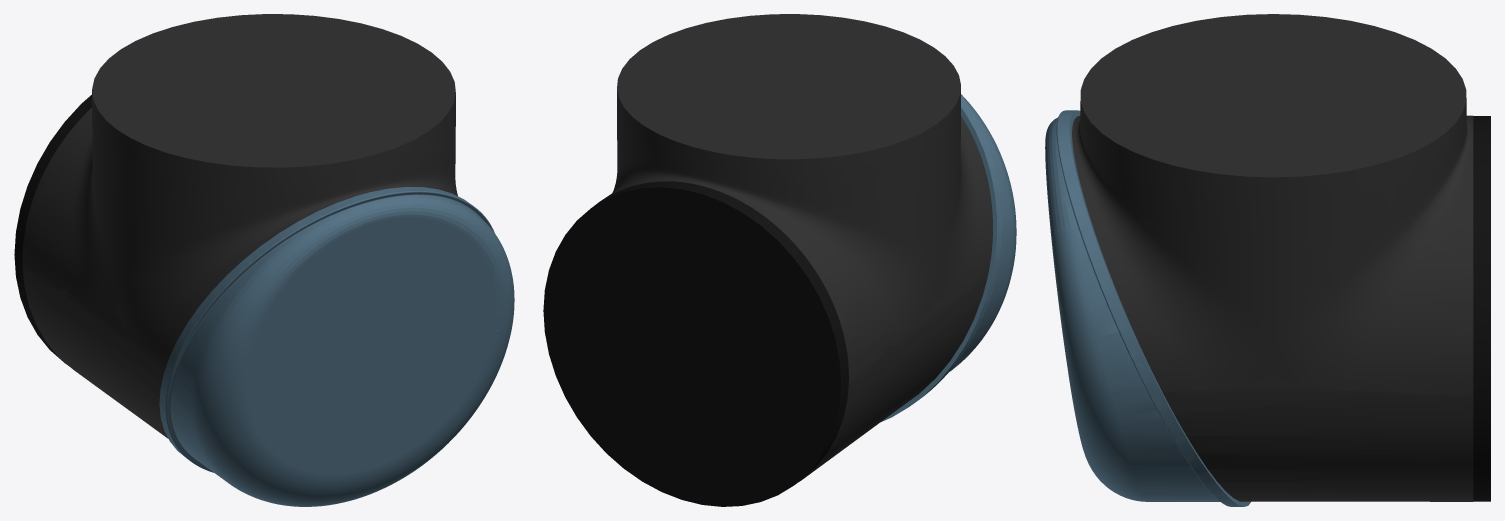
File: shoulder.obj
3 views of the same model, side by side, from view 1: azimuth 30°, elevation 25°; view 2: azimuth 150°, elevation 25°; view 3: azimuth 270°, elevation 25° (orthographic). The views are drawn at different scales.
Parts seen in each view (by area): view 1: Actor0, Actor1; view 2: Actor0, Actor1; view 3: Actor0, Actor1.
Part boxes in pixels (left/top/right/bottom): Actor0: left=14, top=14, right=457, bottom=438; Actor1: left=159, top=187, right=514, bottom=506; Actor0: left=543, top=14, right=992, bottom=506; Actor1: left=881, top=94, right=1016, bottom=421; Actor0: left=1072, top=14, right=1490, bottom=501; Actor1: left=1045, top=110, right=1250, bottom=506.
Bounding box in the file's own units: 0.119 × 0.13 × 0.1337.
